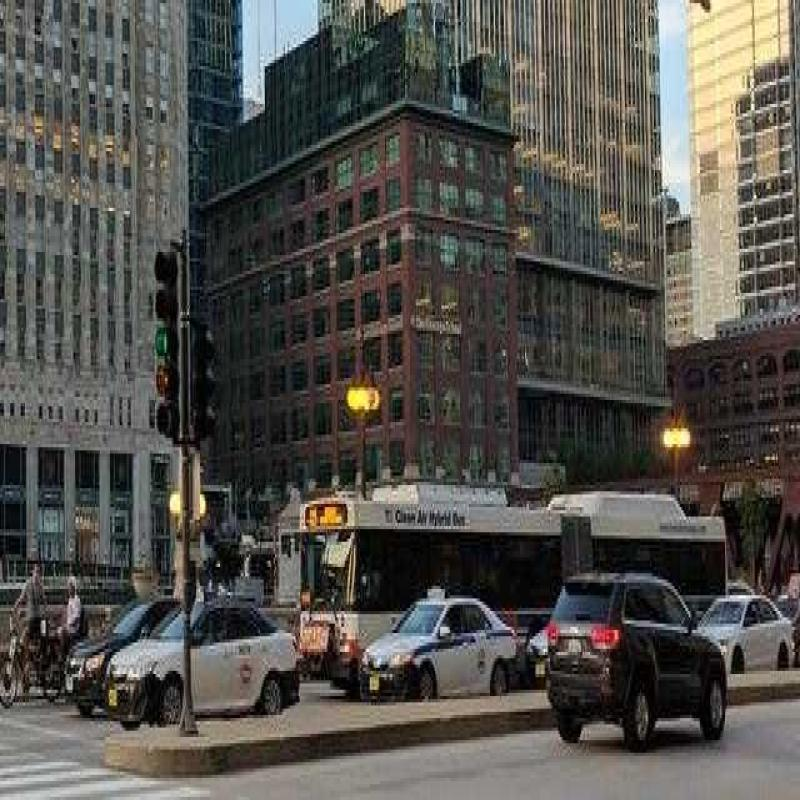bus: (302, 473, 734, 698)
